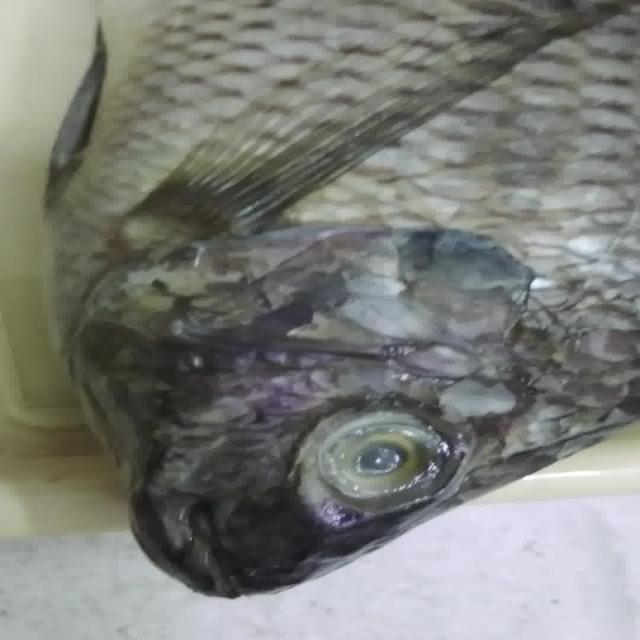Non-Fresh: (276, 390, 486, 513)
